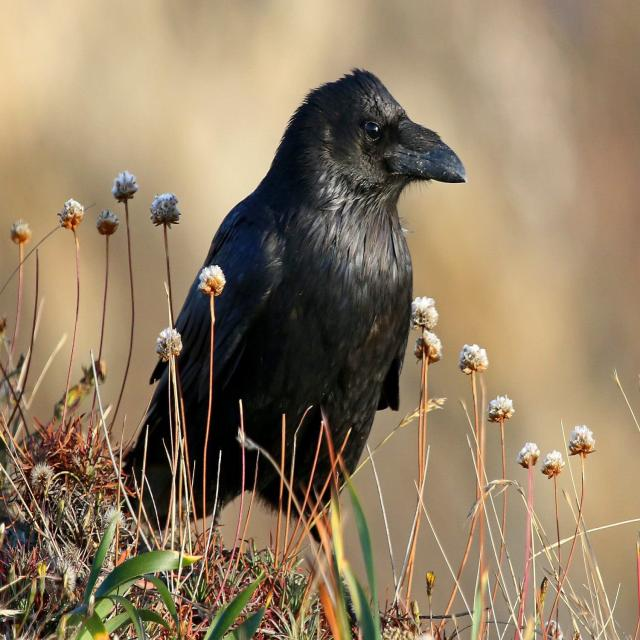crow: (172, 70, 456, 508)
